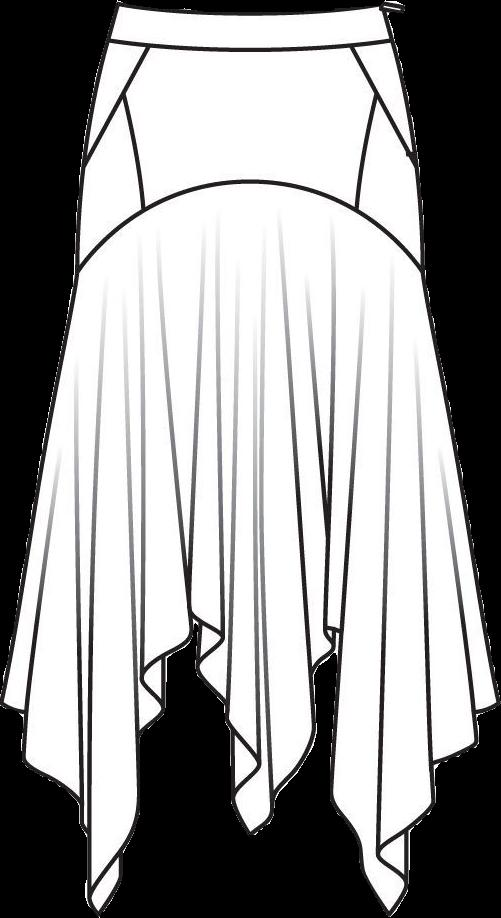Hemline: (0, 607, 500, 917)
Waistline: (73, 176, 428, 276), (115, 0, 383, 24), (103, 34, 393, 56)
